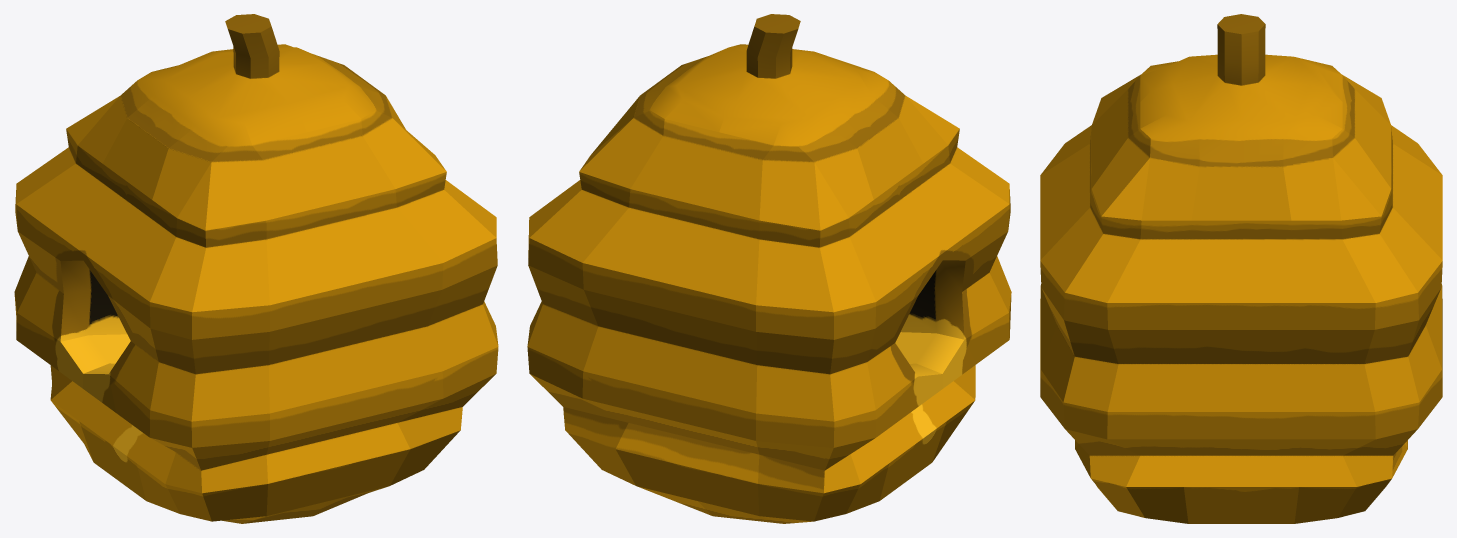
Rendered from Beehive 1.fbx.
The picture shows the model from 3 angles, left to right: view 1: azimuth 30°, elevation 25°; view 2: azimuth 150°, elevation 25°; view 3: azimuth 270°, elevation 25°; orthographic projection.
Parts seen in each view (by area): view 1: Beehive_Mesh; view 2: Beehive_Mesh; view 3: Beehive_Mesh.
Boxes of the visible parts, bbox=[...] form: Beehive_Mesh: bbox=[14, 14, 498, 523]; Beehive_Mesh: bbox=[527, 14, 1011, 523]; Beehive_Mesh: bbox=[1040, 14, 1442, 523].
Size of the model in its own units: 23.14 by 28.87 by 23.14.
1 material, 1 textured.
